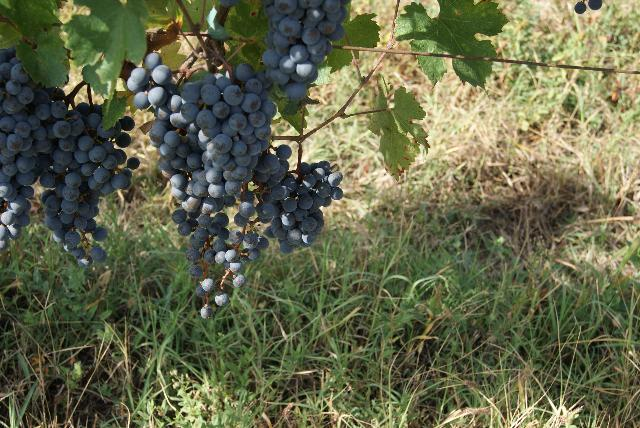grapes: (128, 52, 229, 298), (196, 145, 292, 319), (0, 48, 82, 251), (36, 110, 139, 268), (186, 62, 276, 199), (256, 145, 344, 254), (180, 84, 198, 120)
